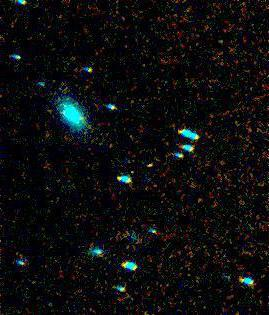star: (142, 152, 172, 182)
